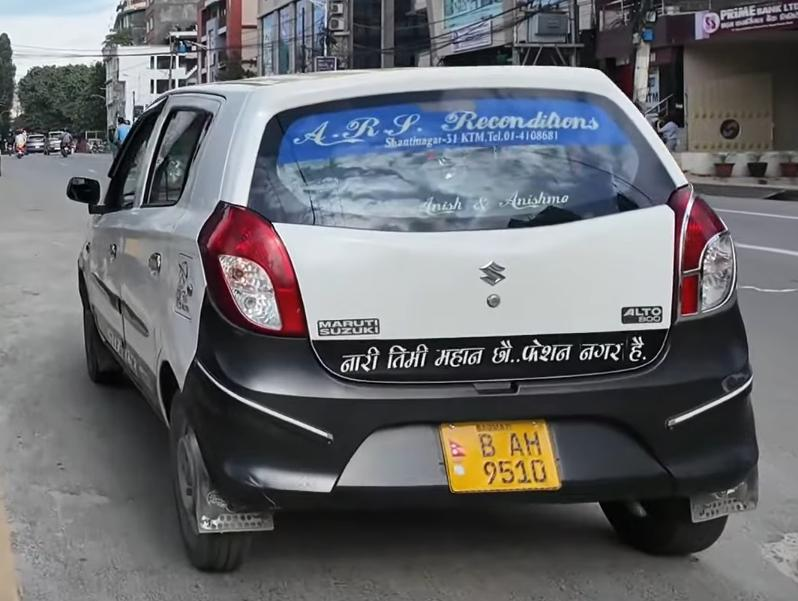car: (25, 132, 49, 154)
taxi: (61, 62, 764, 581)
